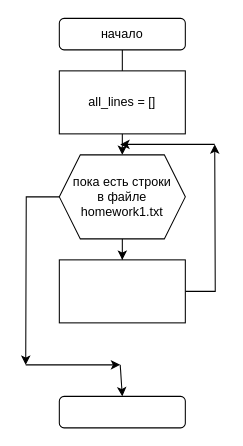
Image size: 243x446. Some labels were removed from this diagram. The shapes that lost their labels are listed below. From the top down, each one's centre as x and y in pixels, then its label:
(x=121, y=291): добавить строку в all_lines
(x=121, y=411): all_lines
